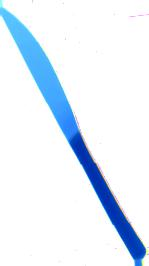Knife: (1, 7, 146, 260)
